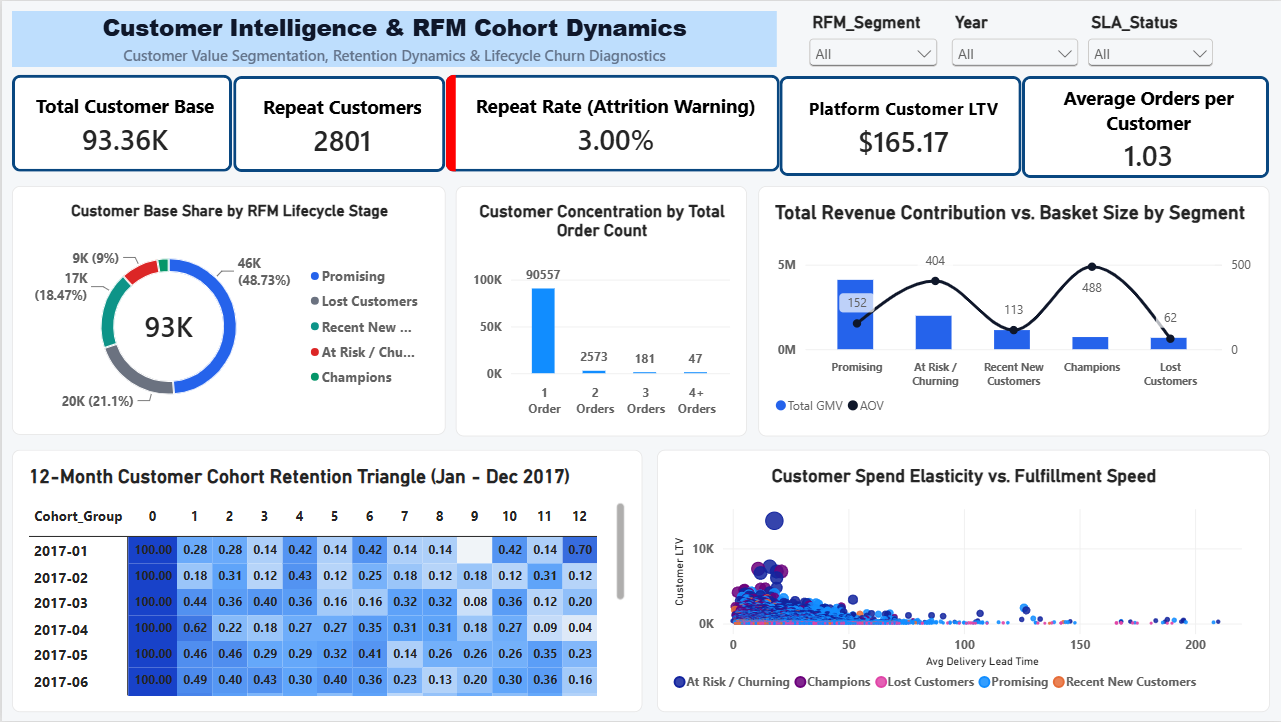

Layout of this report page (visuals, bound fields, positions):
{"tool":"powerbi","page":{"name":"Customer RFM & Retention","canvas":[1280,720],"ordinal":1},"visuals":[{"type":"shape","title":"Customer Intelligence & RFM Cohort Dynamics","box":[10,10,765,56.2],"z":0},{"type":"slicer","fields":{"Values":["clean_orders.SLA_Status"]},"box":[1081.2,11.2,134.5,60.4],"z":1000},{"type":"slicer","fields":{"Values":["Dim_Date.Year"]},"box":[945.5,11,135.8,56.3],"z":2000},{"type":"slicer","fields":{"Values":["clean_customers.RFM_Segment"]},"box":[802.5,11.2,137.5,58.8],"z":3000},{"type":"cardVisual","title":"Total Customer Base","fields":{"Data":["_Measures.Total Customers"]},"box":[9.7,73.6,220.8,97.7],"z":4000},{"type":"cardVisual","fields":{"Data":["_Measures.Repeat Customers"]},"box":[231.2,75,212.3,96.5],"z":5000},{"type":"cardVisual","fields":{"Data":["_Measures.Repeat Purchase Rate %"]},"box":[443.8,73.8,334.2,97.7],"z":6000},{"type":"cardVisual","fields":{"Data":["_Measures.Customer LTV"]},"box":[777.5,75,242.5,100.1],"z":7000},{"type":"cardVisual","fields":{"Data":["_Measures.Avg Orders per Customer"]},"box":[1020,75,247.5,102.5],"z":8000},{"type":"donutChart","title":"Customer Base Share by RFM Lifecycle Stage","fields":{"Category":["clean_customers.RFM_Segment"],"Y":["_Measures.Total Customers"]},"box":[10,185,433.8,248.8],"z":9000},{"type":"lineClusteredColumnComboChart","title":"Total Revenue Contribution vs. Basket Size by Segment","fields":{"Category":["clean_customers.RFM_Segment"],"Y":["_Measures.Total GMV"],"Y2":["_Measures.AOV"]},"box":[756.2,185,511.2,250],"z":10000},{"type":"pivotTable","title":"12-Month Customer Cohort Retention Triangle (Jan - Dec 2017)","fields":{"Columns":["clean_orders.Cohort_Index"],"Rows":["clean_orders.Cohort_Group"],"Values":["_Measures.Cohort Retention Rate %"]},"box":[10,448.8,630,262.5],"z":11000},{"type":"scatterChart","title":"Customer Spend Elasticity vs. Fulfillment Speed","fields":{"Category":["clean_customers.customer_unique_id","clean_customers.customer_state","clean_customers.RFM_Segment"],"Series":["clean_customers.RFM_Segment"],"Size":["_Measures.Total GMV"],"X":["_Measures.Avg Delivery Lead Time"],"Y":["_Measures.Customer LTV"]},"box":[655,448.8,612.5,262.5],"z":12000},{"type":"clusteredColumnChart","title":"Customer Concentration by Total Order Count","fields":{"Category":["clean_customers.Order_Count_Bucket"],"Y":["_Measures.Total Customer Base"]},"box":[453.8,185,291.2,250],"z":13000}]}

Visuals, with their boxes in screenshot pixels (x1, y1, x2, y2), scaled from the page's 1280x720 canvas onto the 1281x722 screenshot:
"Customer Intelligence & RFM Cohort Dynamics" shape: {"x1": 10, "y1": 10, "x2": 776, "y2": 66}
slicer - clean_orders.SLA_Status: {"x1": 1082, "y1": 11, "x2": 1217, "y2": 72}
slicer - Dim_Date.Year: {"x1": 946, "y1": 11, "x2": 1082, "y2": 67}
slicer - clean_customers.RFM_Segment: {"x1": 803, "y1": 11, "x2": 941, "y2": 70}
"Total Customer Base" cardVisual: {"x1": 10, "y1": 74, "x2": 231, "y2": 172}
cardVisual - _Measures.Repeat Customers: {"x1": 231, "y1": 75, "x2": 444, "y2": 172}
cardVisual - _Measures.Repeat Purchase Rate %: {"x1": 444, "y1": 74, "x2": 779, "y2": 172}
cardVisual - _Measures.Customer LTV: {"x1": 778, "y1": 75, "x2": 1021, "y2": 176}
cardVisual - _Measures.Avg Orders per Customer: {"x1": 1021, "y1": 75, "x2": 1268, "y2": 178}
"Customer Base Share by RFM Lifecycle Stage" donutChart: {"x1": 10, "y1": 186, "x2": 444, "y2": 435}
"Total Revenue Contribution vs. Basket Size by Segment" lineClusteredColumnComboChart: {"x1": 757, "y1": 186, "x2": 1268, "y2": 436}
"12-Month Customer Cohort Retention Triangle (Jan - Dec 2017)" pivotTable: {"x1": 10, "y1": 450, "x2": 640, "y2": 713}
"Customer Spend Elasticity vs. Fulfillment Speed" scatterChart: {"x1": 656, "y1": 450, "x2": 1268, "y2": 713}
"Customer Concentration by Total Order Count" clusteredColumnChart: {"x1": 454, "y1": 186, "x2": 746, "y2": 436}
